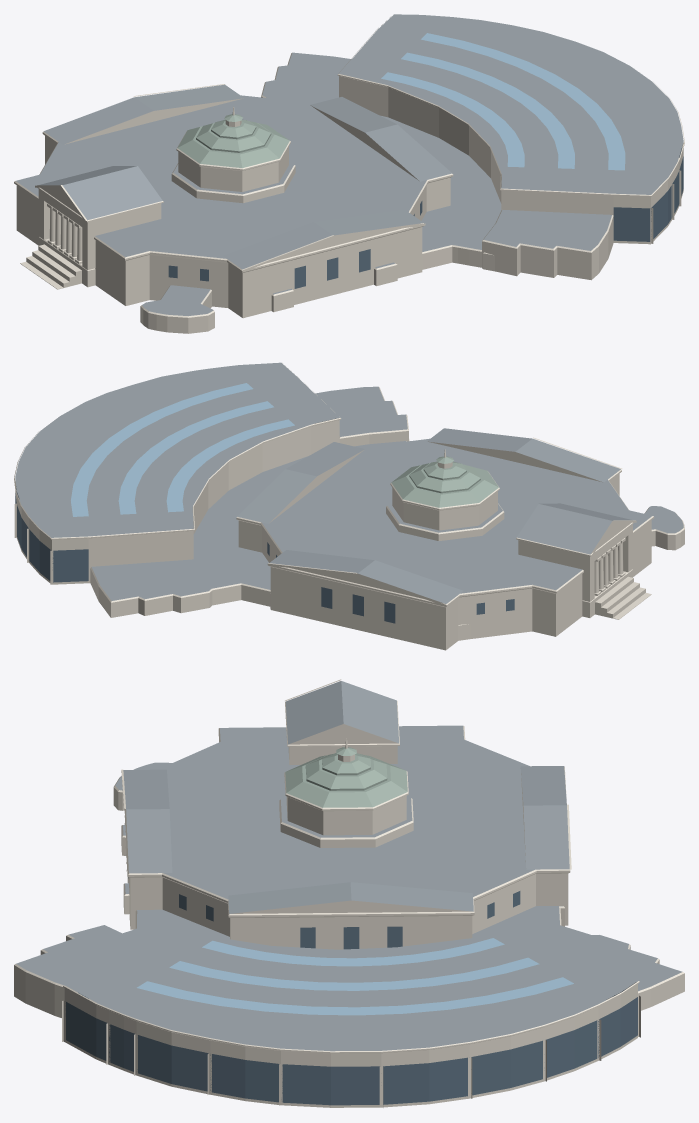
3 renders of one model, top to bottom at view 1: azimuth 30°, elevation 25°; view 2: azimuth 150°, elevation 25°; view 3: azimuth 270°, elevation 25°, orthographic. The views are drawn at different scales.
Parts seen in each view (by area): view 1: shedd-aquarium; view 2: shedd-aquarium; view 3: shedd-aquarium.
Part boxes in pixels (x1,y1,x2,y2): shedd-aquarium: [14, 14, 684, 333]; shedd-aquarium: [14, 362, 684, 650]; shedd-aquarium: [14, 679, 684, 1107].
Size of the model in its own units: 168 by 31.5 by 139.
